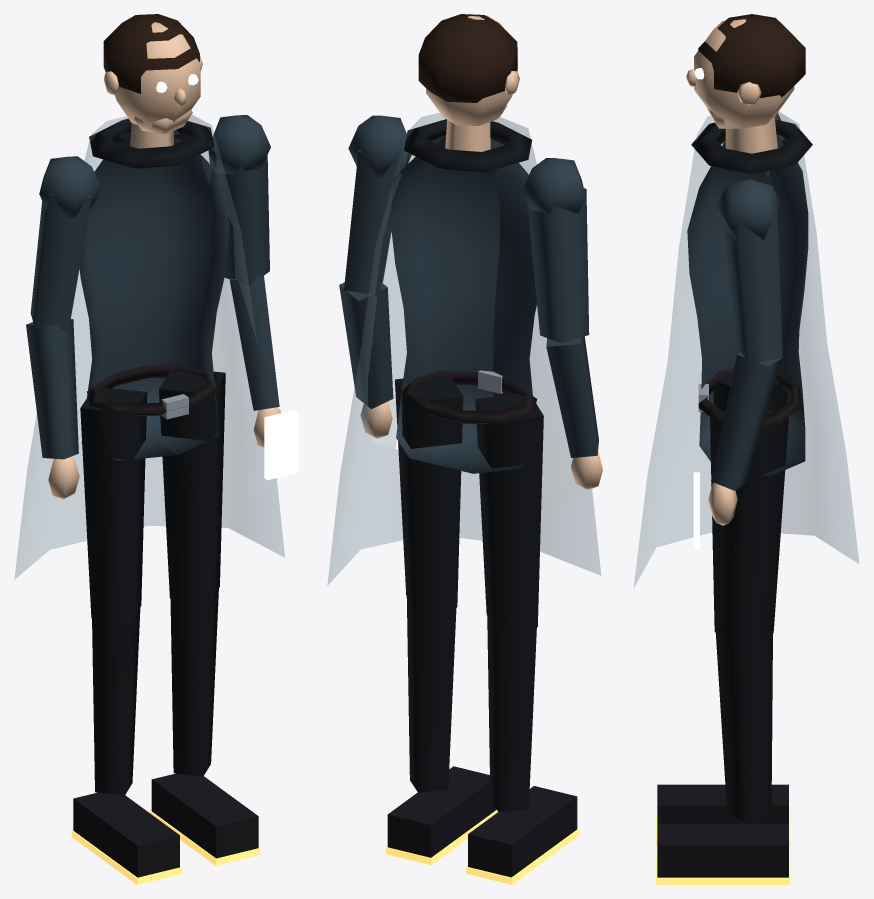
File: person_rain_lo.glb
3 views of the same model, side by side, from view 1: azimuth 30°, elevation 25°; view 2: azimuth 150°, elevation 25°; view 3: azimuth 270°, elevation 25° (orthographic). The views are drawn at different scales.
Visible parts, largest first — view 1: cloth_a (×3), cloth_b (×5), raincoat, shoe (×2), skin (×2), hair, leather, light_white, neon_amber (×2); view 2: cloth_a (×3), cloth_b (×5), raincoat, shoe (×2), hair, skin (×3), leather, neon_amber (×2), light_white; view 3: cloth_a (×2), raincoat, cloth_b (×4), shoe (×2), hair, skin (×2), leather, neon_amber, light_white.
Boxes of the visible parts, x1=… form: cloth_a (×3): x1=26, y1=115, x2=279, y2=460; cloth_b (×5): x1=80, y1=118, x2=225, y2=795; raincoat: x1=14, y1=115, x2=284, y2=579; shoe (×2): x1=73, y1=773, x2=258, y2=877; skin (×2): x1=48, y1=22, x2=202, y2=499; hair: x1=103, y1=14, x2=199, y2=93; leather: x1=87, y1=364, x2=218, y2=416; light_white: x1=264, y1=409, x2=298, y2=480; neon_amber (×2): x1=71, y1=811, x2=260, y2=884; cloth_a (×3): x1=339, y1=115, x2=598, y2=473; cloth_b (×5): x1=395, y1=119, x2=543, y2=812; raincoat: x1=327, y1=113, x2=600, y2=585; shoe (×2): x1=387, y1=766, x2=577, y2=877; hair: x1=418, y1=14, x2=517, y2=102; skin (×3): x1=360, y1=15, x2=602, y2=490; leather: x1=401, y1=371, x2=536, y2=424; neon_amber (×2): x1=385, y1=810, x2=579, y2=884; light_white: x1=373, y1=383, x2=398, y2=449; cloth_a (×2): x1=687, y1=134, x2=808, y2=490; raincoat: x1=634, y1=112, x2=858, y2=586; cloth_b (×4): x1=691, y1=119, x2=812, y2=823; shoe (×2): x1=657, y1=784, x2=788, y2=877; hair: x1=698, y1=14, x2=805, y2=98; skin (×2): x1=686, y1=19, x2=794, y2=525; leather: x1=698, y1=368, x2=800, y2=426; neon_amber: x1=656, y1=856, x2=790, y2=884; light_white: x1=693, y1=472, x2=699, y2=550.
Bounding box in the file's own units: 0.5331 × 1.75 × 0.4289.
